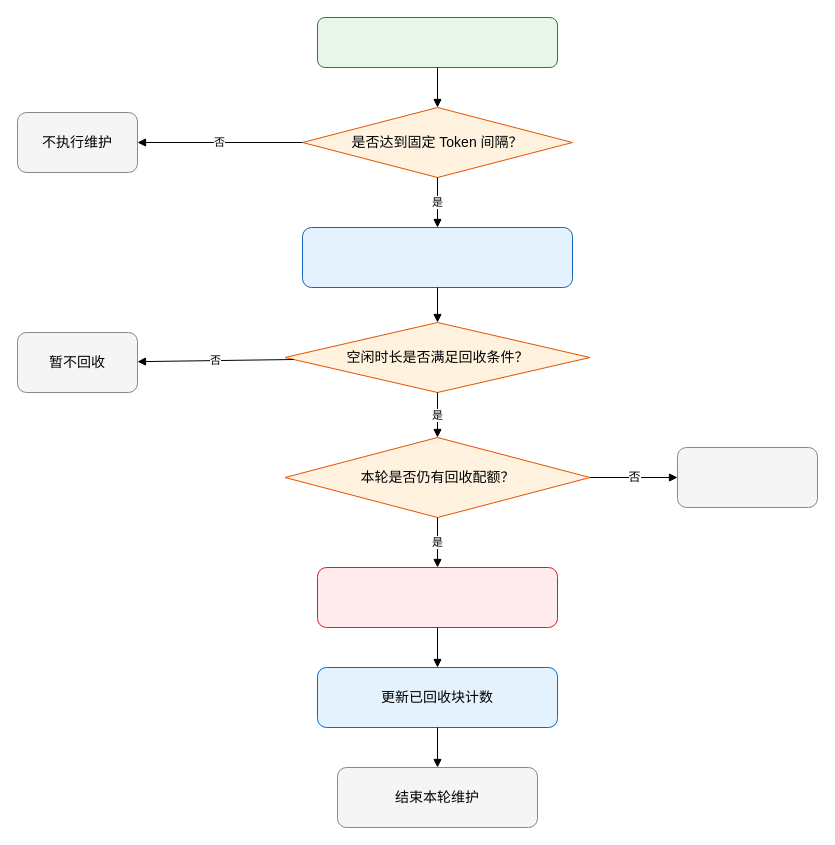
Image size: 835x845. Some labels were removed from this diagram. The shapes that lost their labels are listed below. From the top down, each one's box as (x1, y1, x2, y2) in pixels, then its label:
(316, 16, 558, 68): 空闲块维护策略触发
(302, 226, 572, 288): 扫描空闲候选块并判断是否可回收
(676, 446, 818, 508): 达到本轮回收上限
(316, 566, 558, 628): 执行块换出策略
